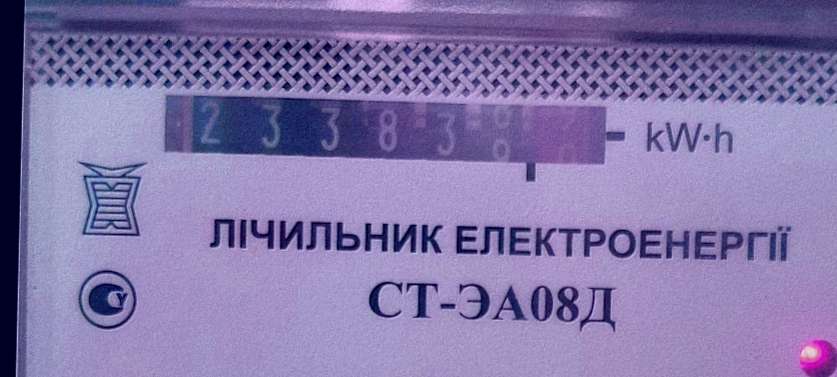0: (554, 139, 580, 164)
2: (195, 97, 224, 146)
3: (256, 100, 284, 151), (318, 103, 343, 154), (433, 108, 459, 157)
8: (375, 106, 400, 152), (488, 103, 516, 130)
9: (487, 134, 514, 163), (555, 104, 580, 133)
screen: (151, 82, 624, 186)
